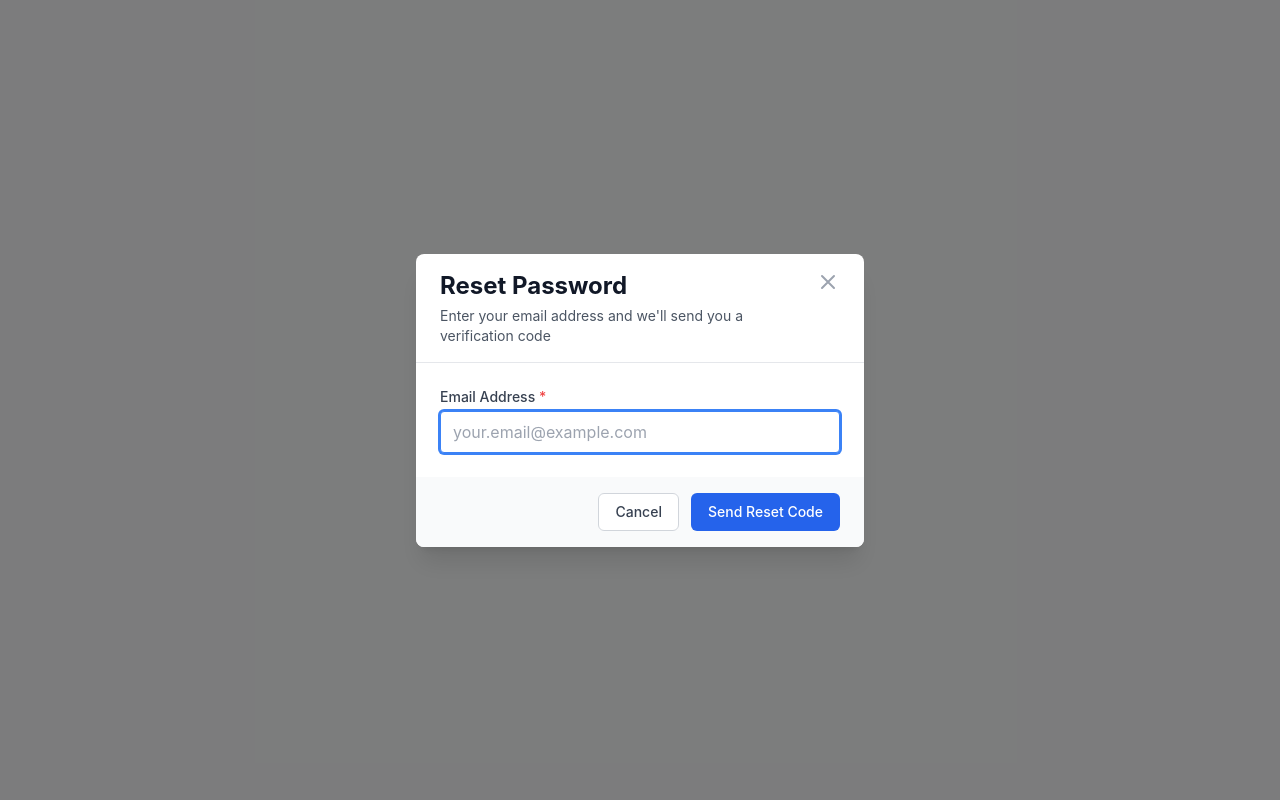
Test: Authentication Error Messages › Password Reset Error Messages › should display specific error when user account is not found
The width and height of the screenshot is (1280, 800).
# Fill in email field
Step 1. Type "nonexistent@example.com" into the field labelled "Email Address *" → x=640, y=432, box [440,410,840,452]
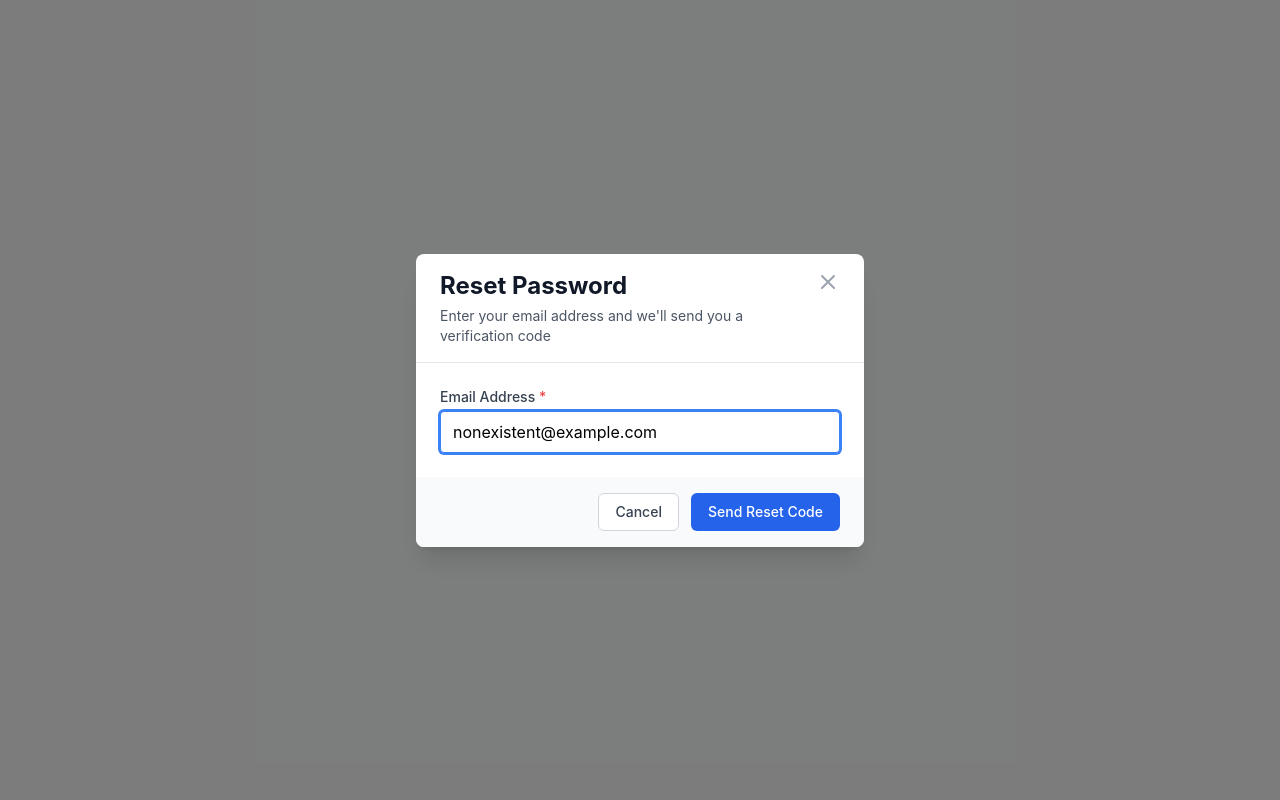
# Submit form
Step 2. Click the button "Send Reset Code" → x=766, y=512, box [691,492,840,530]
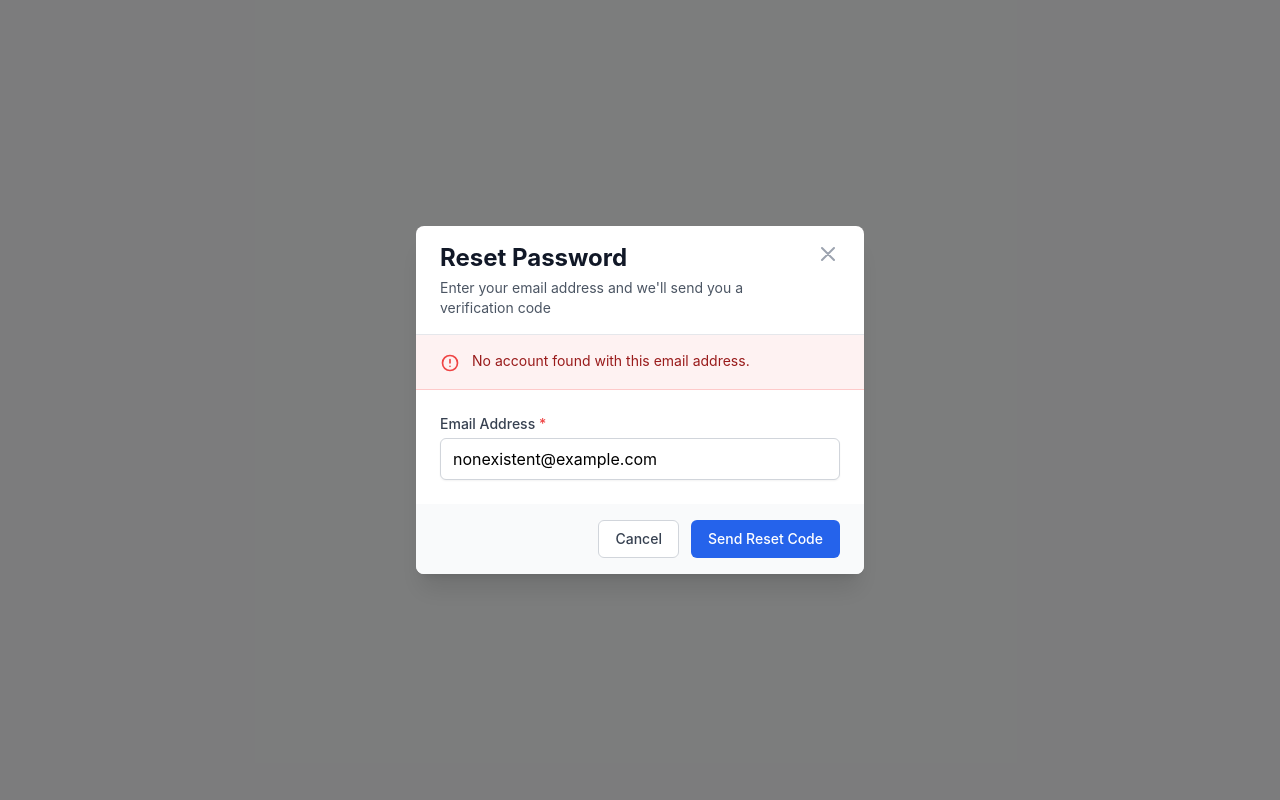
Result: the text "No account found with this email address." is shown at [472,351,750,371]
